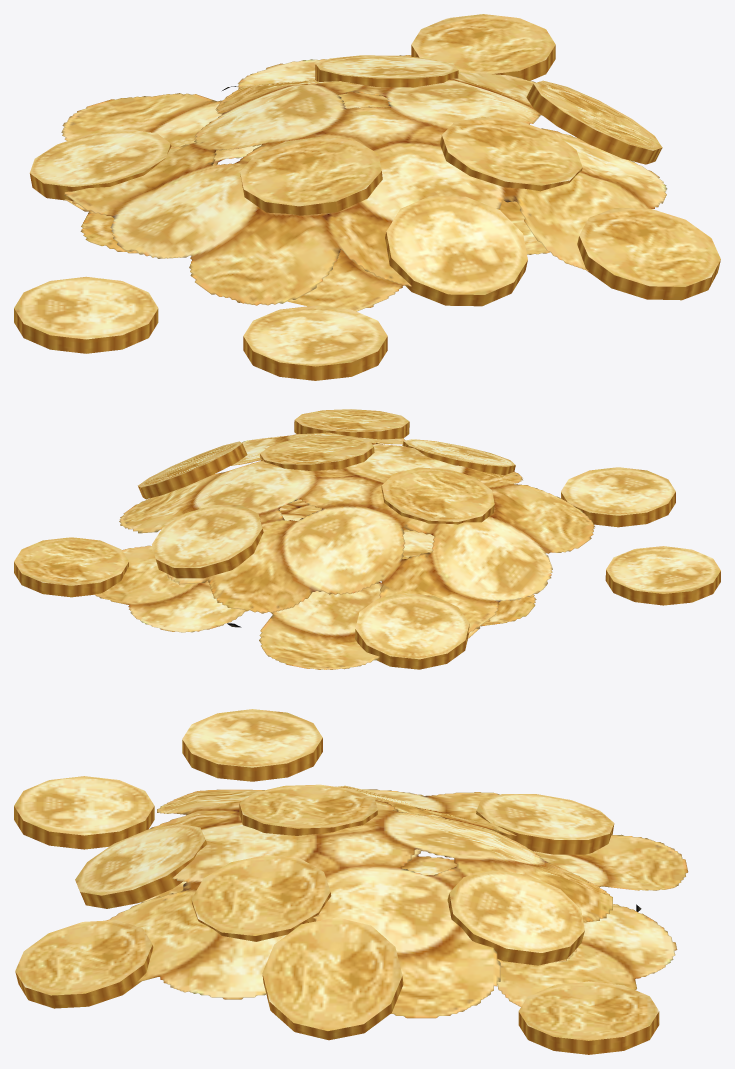
3 renders of one model, top to bottom at view 1: azimuth 30°, elevation 25°; view 2: azimuth 150°, elevation 25°; view 3: azimuth 270°, elevation 25°, orthographic. The views are drawn at different scales.
Parts seen in each view (by area): view 1: e_nb_coinplan1_normal, e_nb_coinplan2_normal, e_nb_coin4_normal, e_nb_coin7_normal, e_nb_coin9_normal, e_nb_coin2_normal, e_nb_coin8_normal, e_nb_coin5_normal, e_nb_coin1_normal, e_nb_coin6_normal, e_nb_coin3_normal, e_nb_coin10_normal; view 2: e_nb_coinplan1_normal, e_nb_coinplan2_normal, e_nb_coin6_normal, e_nb_coin10_normal, e_nb_coin9_normal, e_nb_coin1_normal, e_nb_coin8_normal, e_nb_coin2_normal, e_nb_coin5_normal, e_nb_coin7_normal, e_nb_coin3_normal, e_nb_coin4_normal; view 3: e_nb_coinplan1_normal, e_nb_coinplan2_normal, e_nb_coin3_normal, e_nb_coin10_normal, e_nb_coin7_normal, e_nb_coin5_normal, e_nb_coin1_normal, e_nb_coin9_normal, e_nb_coin8_normal, e_nb_coin4_normal, e_nb_coin6_normal, e_nb_coin2_normal.
Part boxes in pixels (x1,y1,x2,y2): e_nb_coinplan1_normal: (64,72,667,305); e_nb_coinplan2_normal: (61,55,549,311); e_nb_coin4_normal: (385,196,527,306); e_nb_coin7_normal: (577,208,720,300); e_nb_coin9_normal: (14,276,158,353); e_nb_coin2_normal: (240,136,382,215); e_nb_coin8_normal: (243,305,387,380); e_nb_coin5_normal: (440,117,582,191); e_nb_coin1_normal: (411,14,555,80); e_nb_coin6_normal: (29,129,171,201); e_nb_coin3_normal: (526,80,662,164); e_nb_coin10_normal: (315,55,458,91); e_nb_coinplan1_normal: (119,432,594,632); e_nb_coinplan2_normal: (93,499,536,669); e_nb_coin6_normal: (355,593,469,669); e_nb_coin10_normal: (152,505,263,578); e_nb_coin9_normal: (605,546,720,605); e_nb_coin1_normal: (14,537,128,597); e_nb_coin8_normal: (561,467,675,527); e_nb_coin2_normal: (381,467,494,524); e_nb_coin5_normal: (260,435,374,470); e_nb_coin7_normal: (294,409,409,439); e_nb_coin3_normal: (138,441,247,499); e_nb_coin4_normal: (402,439,515,475); e_nb_coinplan1_normal: (106,785,641,1018); e_nb_coinplan2_normal: (141,794,688,1006); e_nb_coin3_normal: (262,917,403,1040); e_nb_coin10_normal: (447,870,584,965); e_nb_coin7_normal: (15,920,153,1008); e_nb_coin5_normal: (191,855,331,941); e_nb_coin1_normal: (518,981,659,1054); e_nb_coin9_normal: (182,709,322,781); e_nb_coin8_normal: (14,776,154,849); e_nb_coin4_normal: (75,824,207,908); e_nb_coin6_normal: (476,794,614,854); e_nb_coin2_normal: (239,784,377,835).
Bounding box in the file's own units: 41.92 × 5.11 × 37.92.
Materials: 12 (12 with a texture image).
